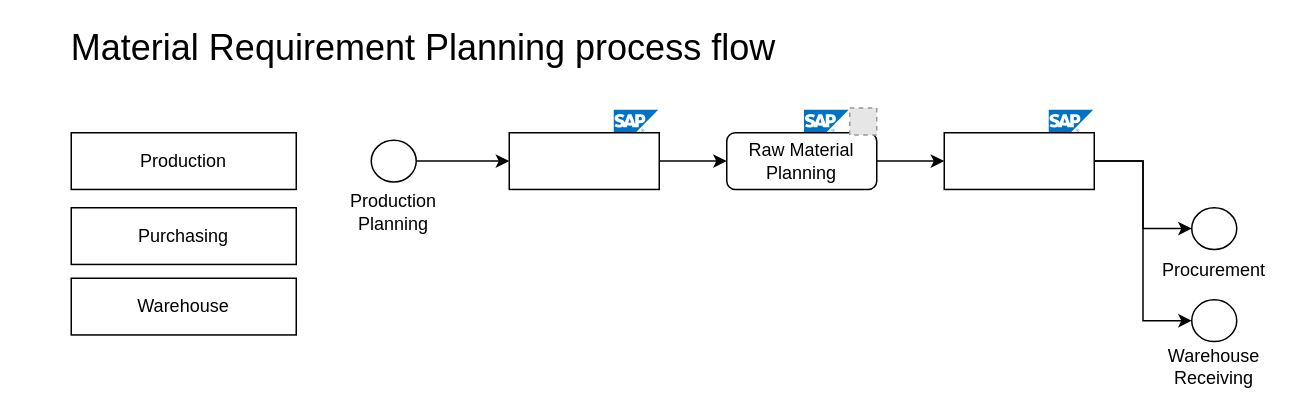
The diagram is 1292 pixels wide and 416 high, and some of its shapes have lost their labels. Grey dashed boxes stand in for pictures. The shapes that lost their labels are listed below. From the top down, each one's box as (x1, y1, x2, y2) in pixels, then its label:
(508, 131, 659, 189): Production Plan (Sat-Fri)
(943, 131, 1094, 189): Raw Material Plan (Sat-Fri)
